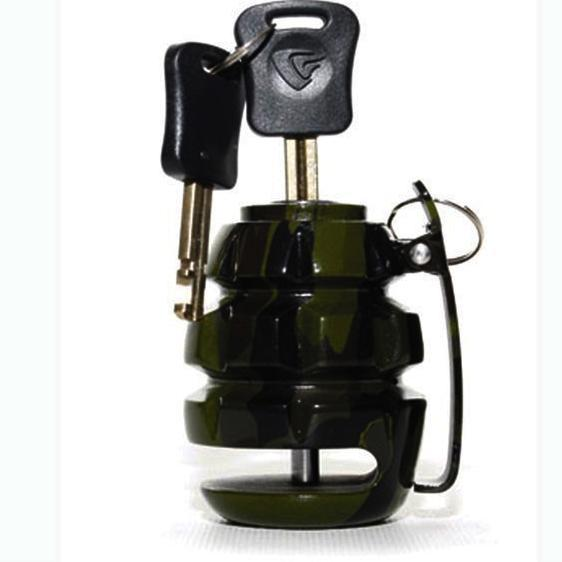Grenade: (160, 0, 483, 530)
